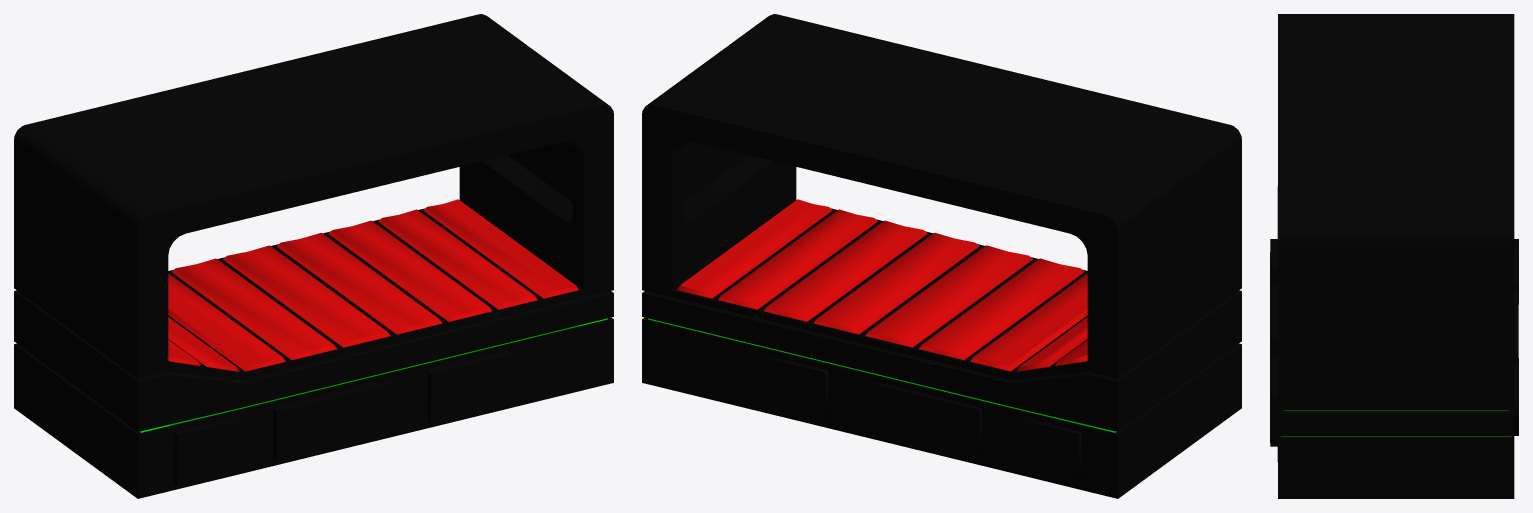
Rendered from Crew_Bunkbed.fbx.
3 views of the same model, side by side, from view 1: azimuth 30°, elevation 25°; view 2: azimuth 150°, elevation 25°; view 3: azimuth 270°, elevation 25° (orthographic). The views are drawn at different scales.
Parts seen in each view (by area): view 1: Bunkbed; view 2: Bunkbed; view 3: Bunkbed.
Part boxes in pixels (<box>): Bunkbed: <box>14,14,613,498</box>; Bunkbed: <box>642,14,1241,498</box>; Bunkbed: <box>1270,14,1518,498</box>.
Size of the model in its own units: 266 by 150 by 126.
